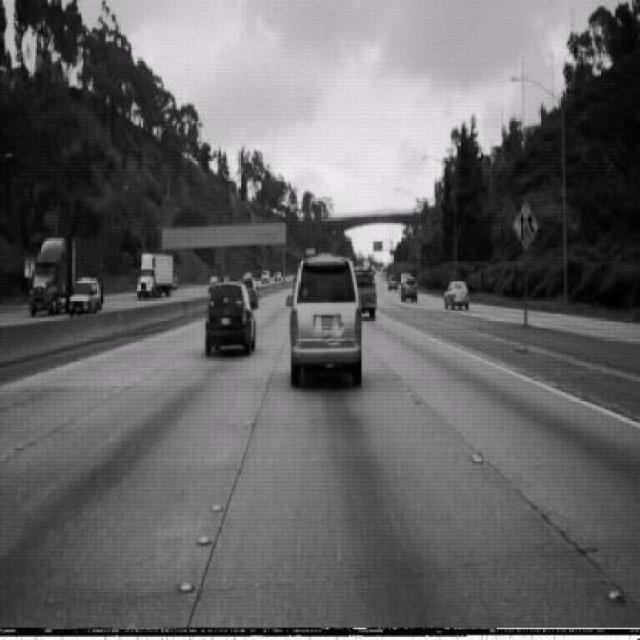addedLane: (512, 198, 540, 252)
